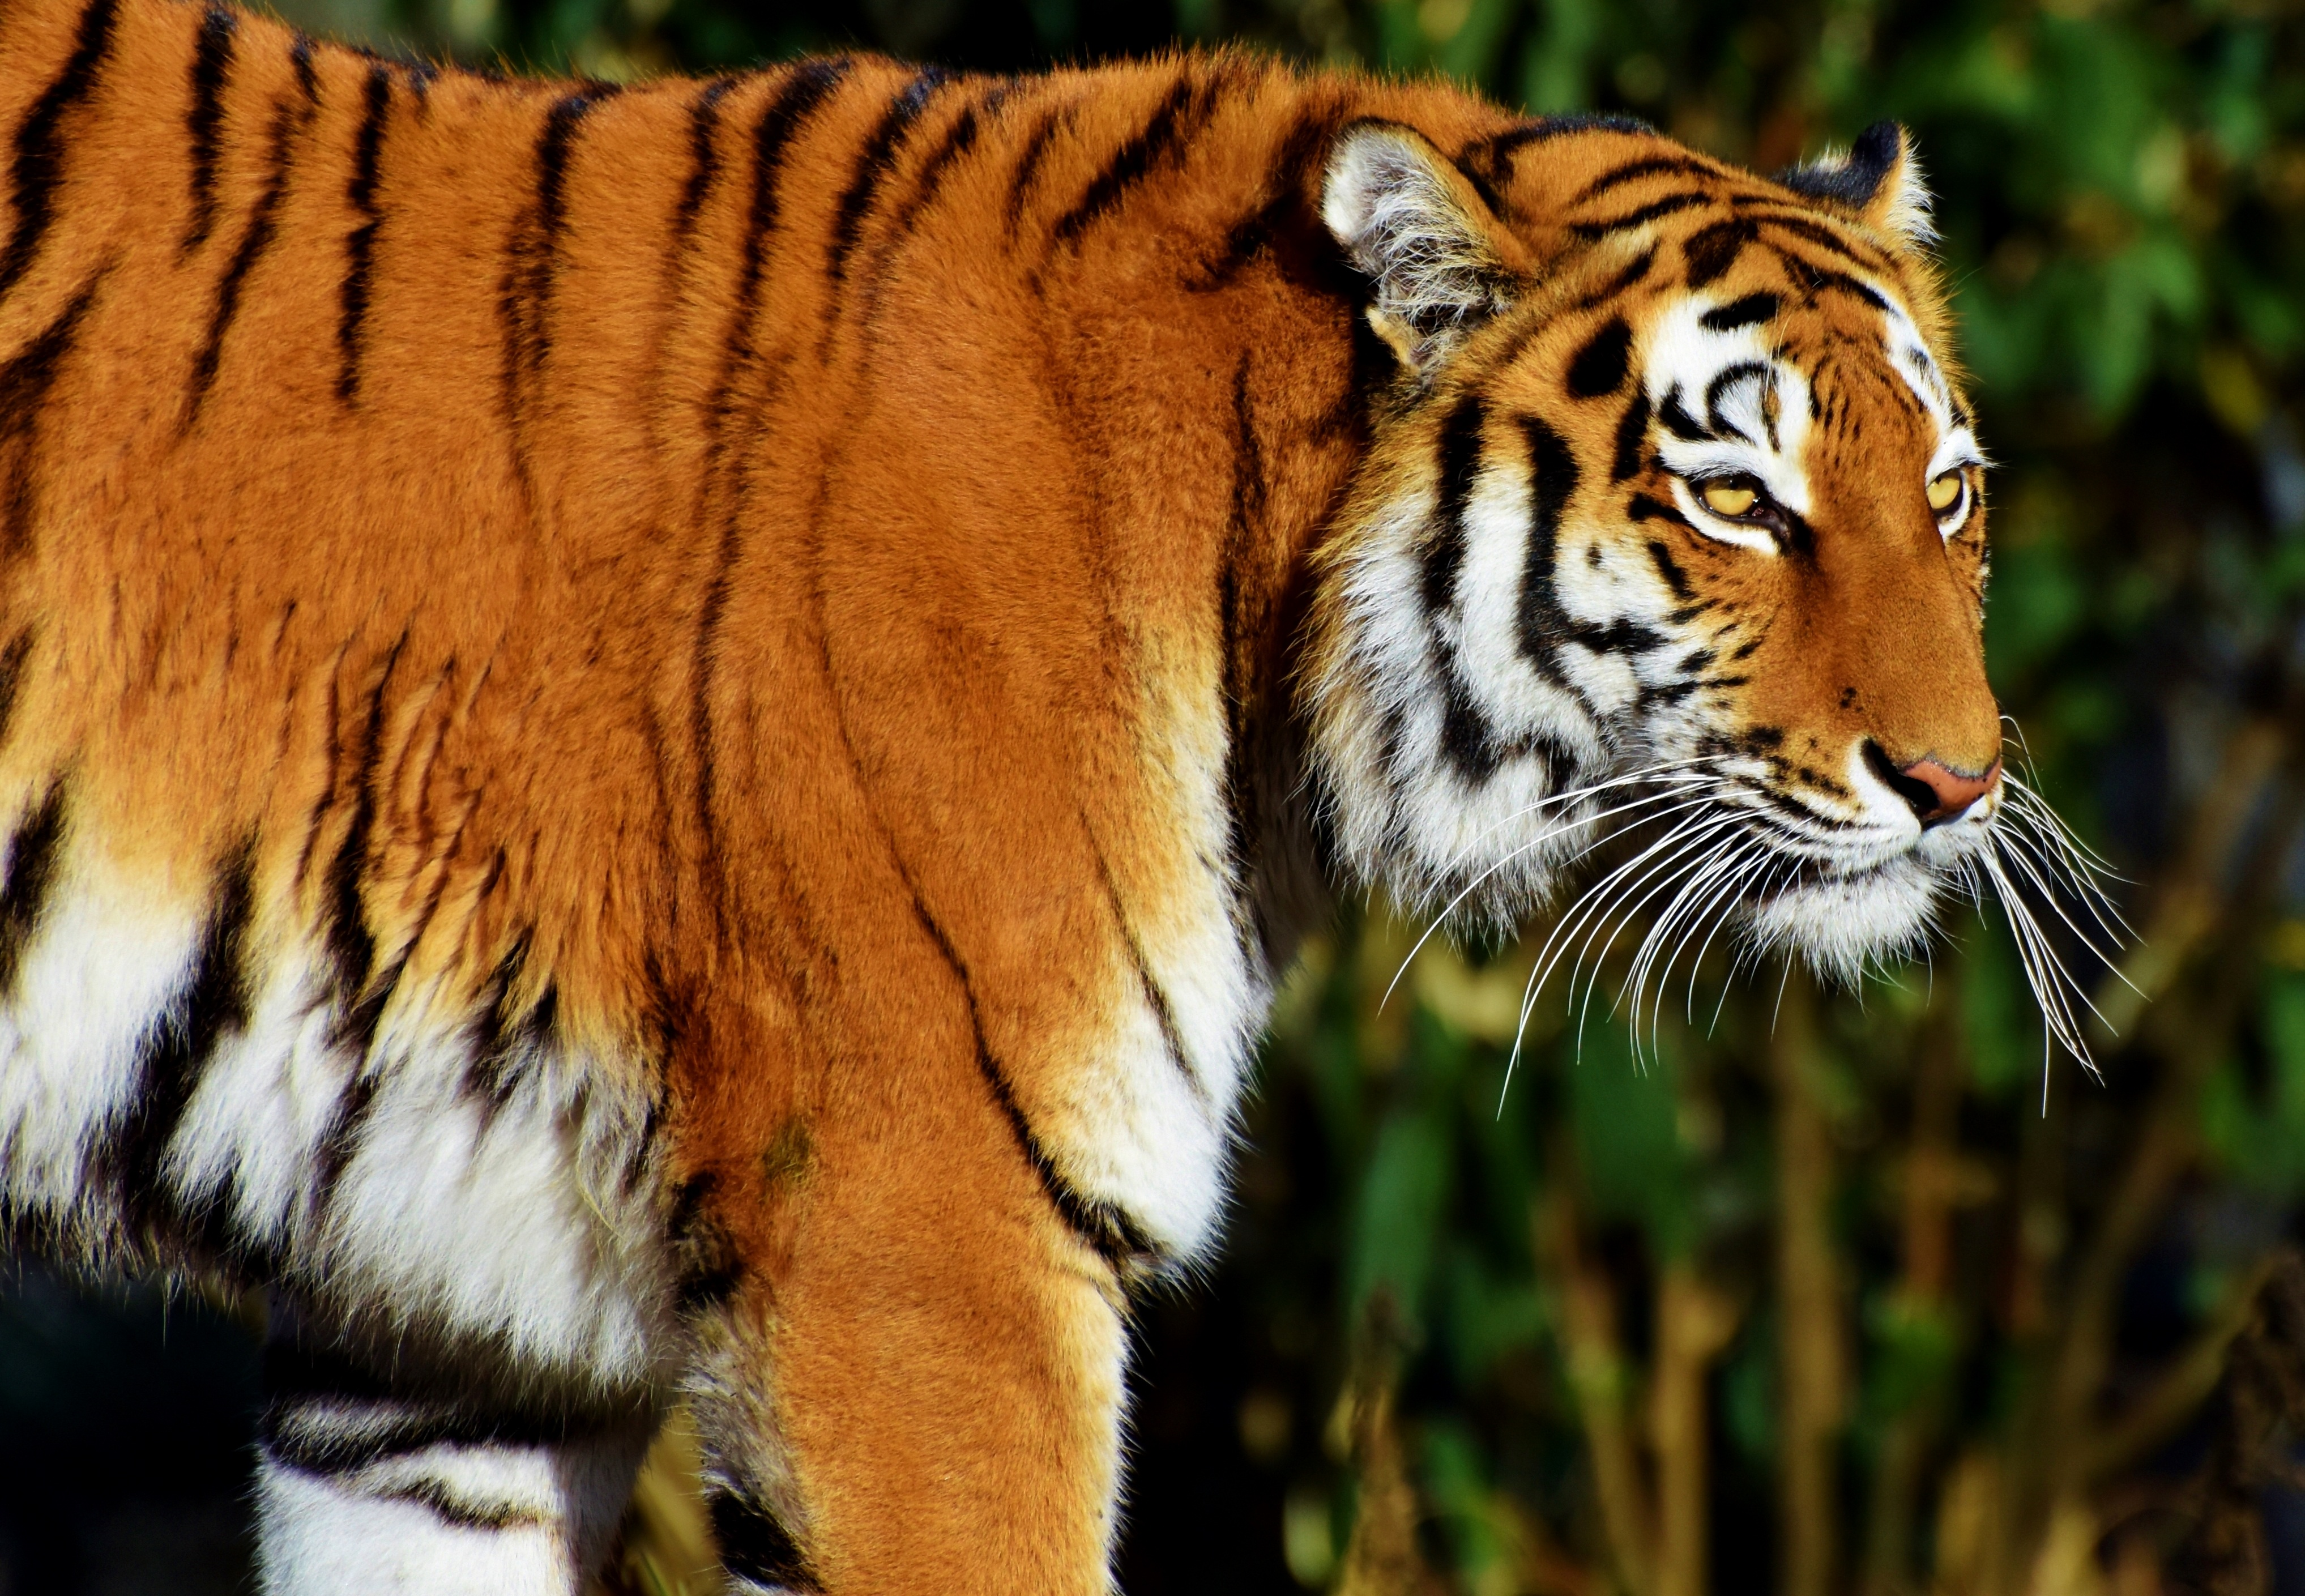tiger: (77, 40, 2105, 1437)
